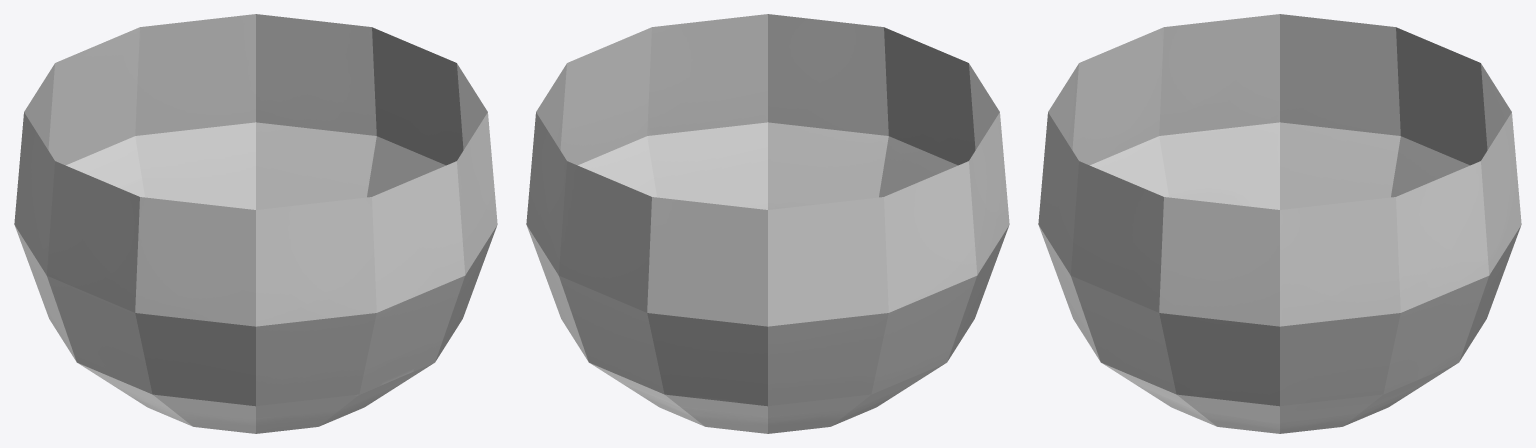
Rendered from EggShell1.fbx.
3 views of the same model, side by side, from view 1: azimuth 30°, elevation 25°; view 2: azimuth 150°, elevation 25°; view 3: azimuth 270°, elevation 25° (orthographic).
Parts seen in each view (by area): view 1: EggShell1; view 2: EggShell1; view 3: EggShell1.
Part boxes in pixels (x1,y1,x2,y2): EggShell1: [14, 14, 497, 433]; EggShell1: [526, 14, 1009, 433]; EggShell1: [1038, 14, 1521, 433].
Size of the model in its own units: 36.66 by 23.6 by 36.66.
